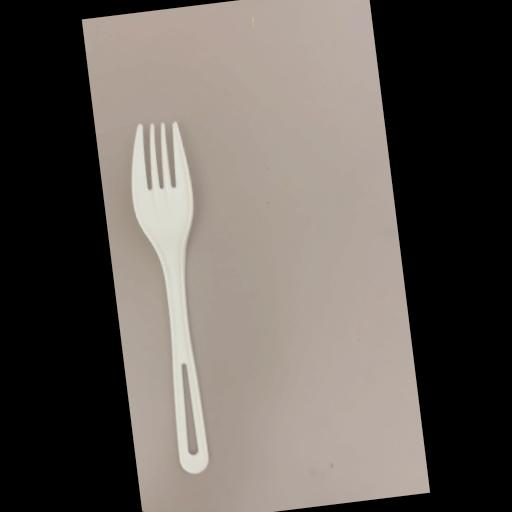utensil: (119, 112, 233, 478)
